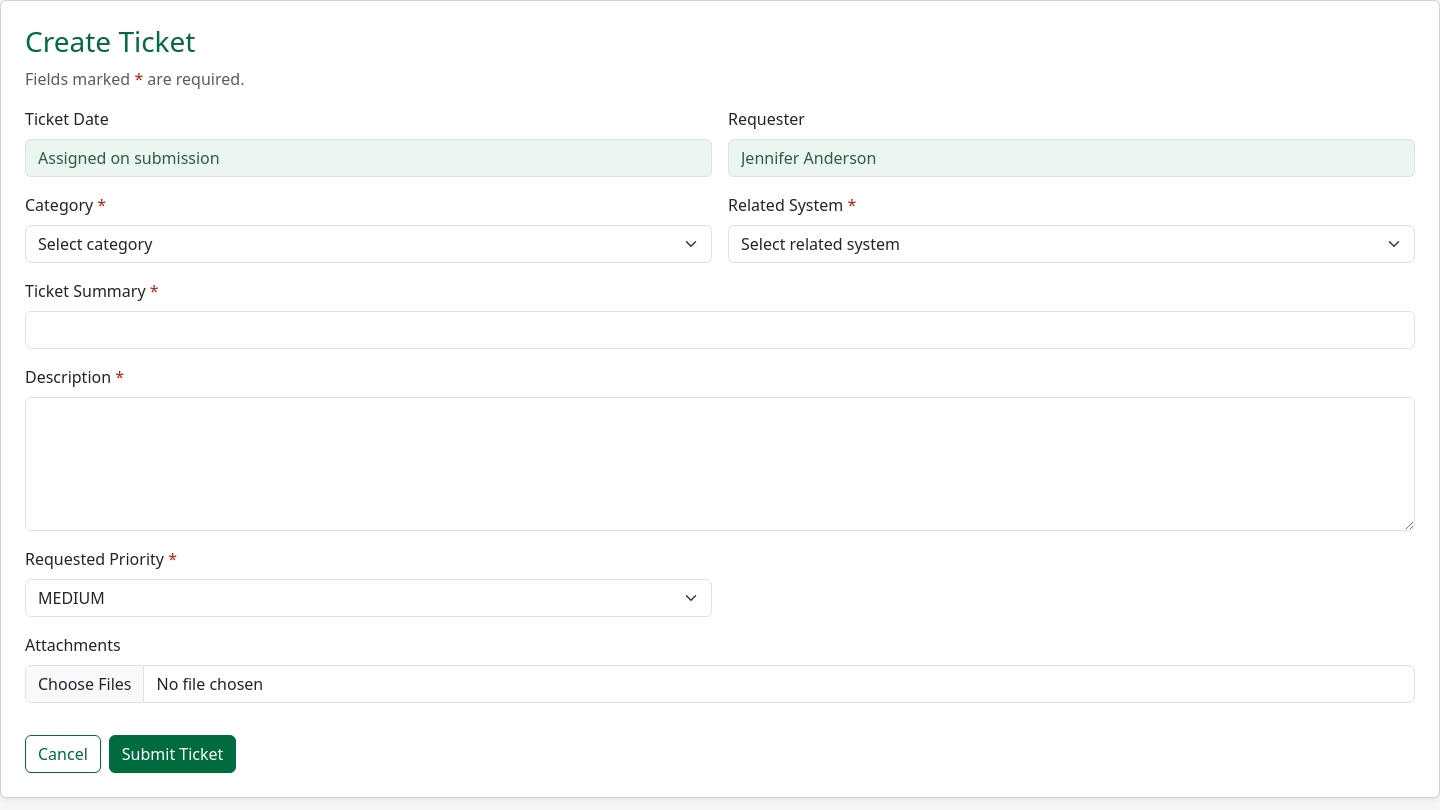
Test: Authenticated Create Ticket › preserves values after an API failure
The image size is (1440, 810).
Expected: the heading "Create Ticket" is shown, [25,22,196,60]
Expected: the button "Submit Ticket" is enabled, [109,735,236,773]
Step 1. Type "Laptop fails" into the field labelled "Ticket Summary *" → (720, 330), box [25,311,1415,349]
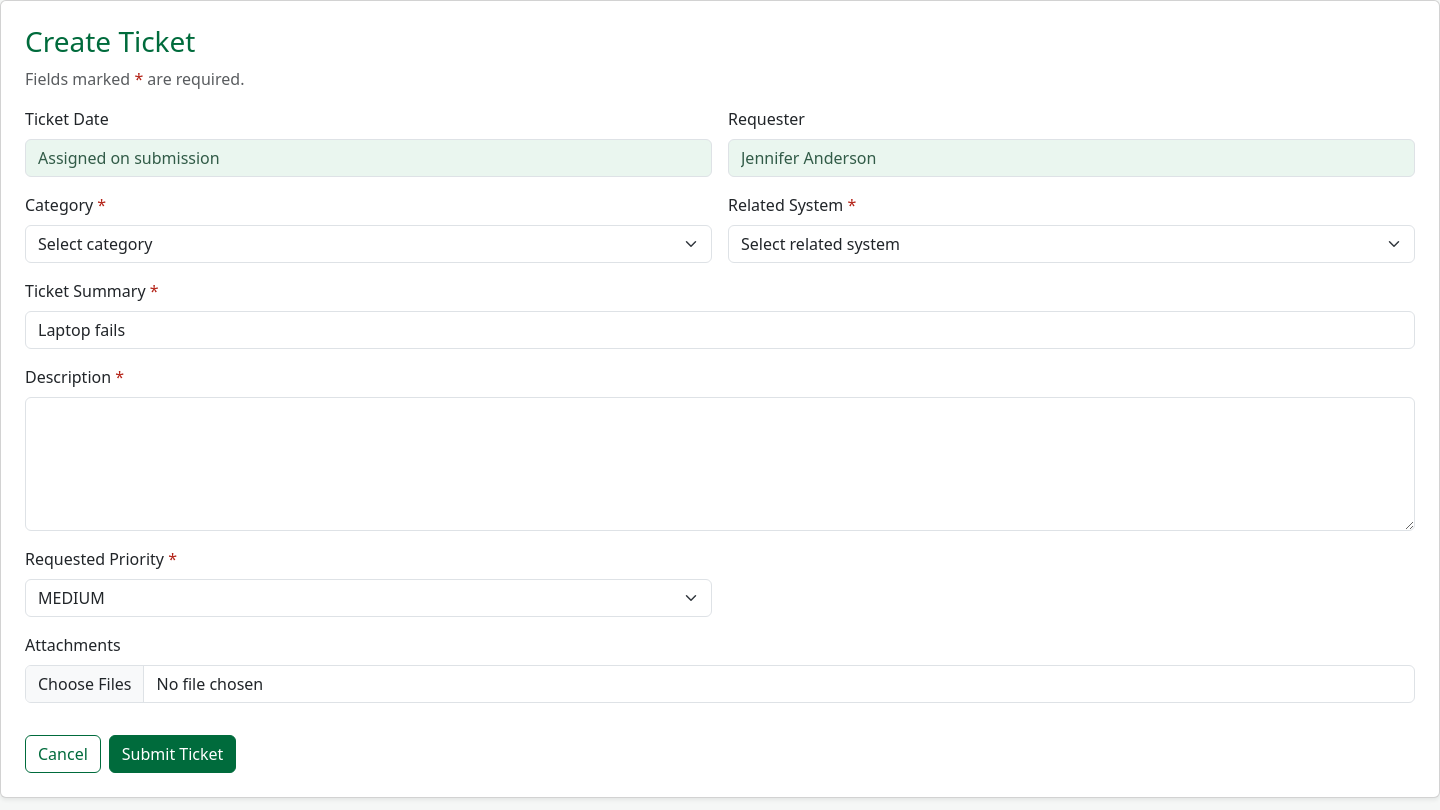
Step 2. Type "Laptop does not power on." into the text box labelled "Description *" → (720, 464), box [25,397,1415,531]
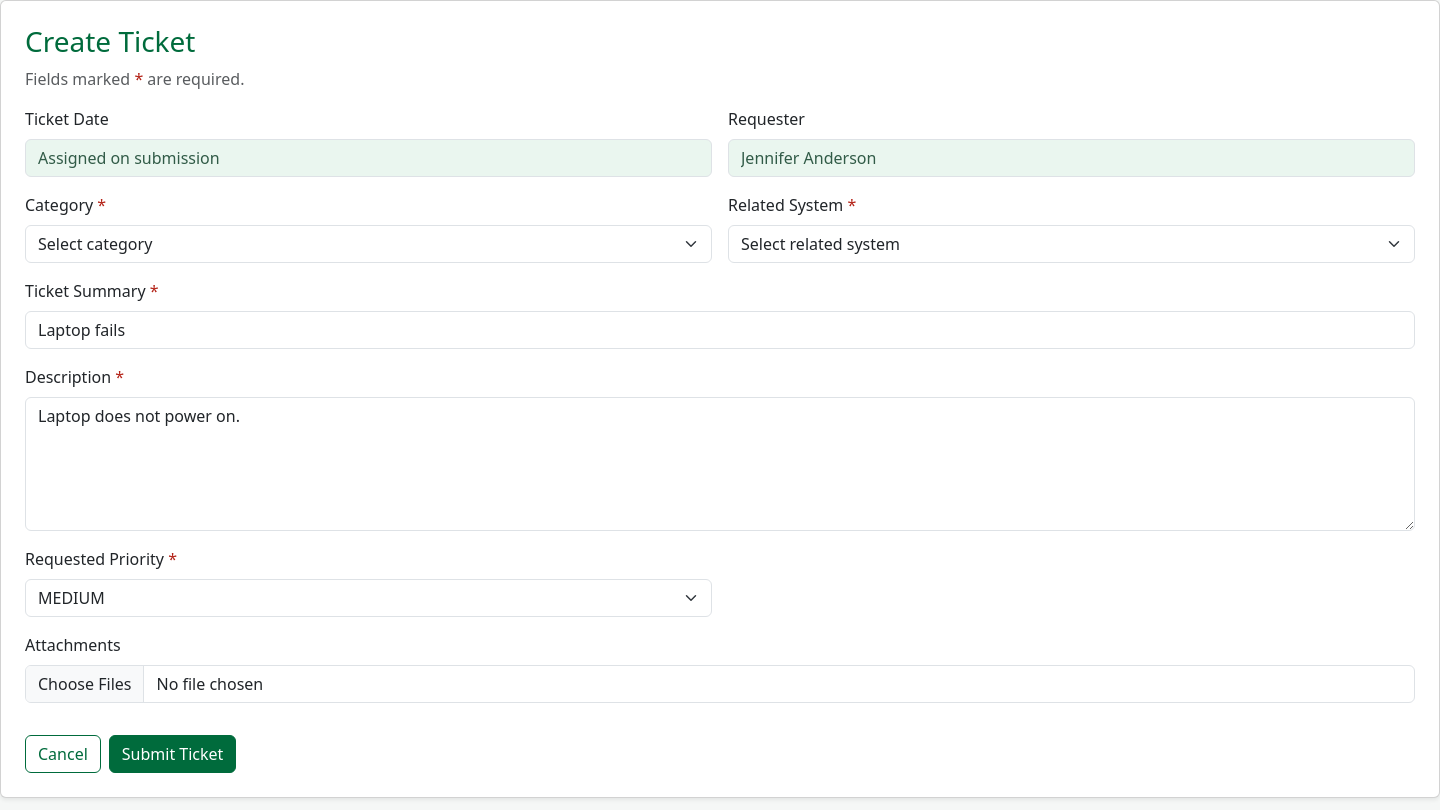
Step 3. Select "Hardware" in the dropdown labelled "Category *" → (368, 244), box [25,225,712,263]
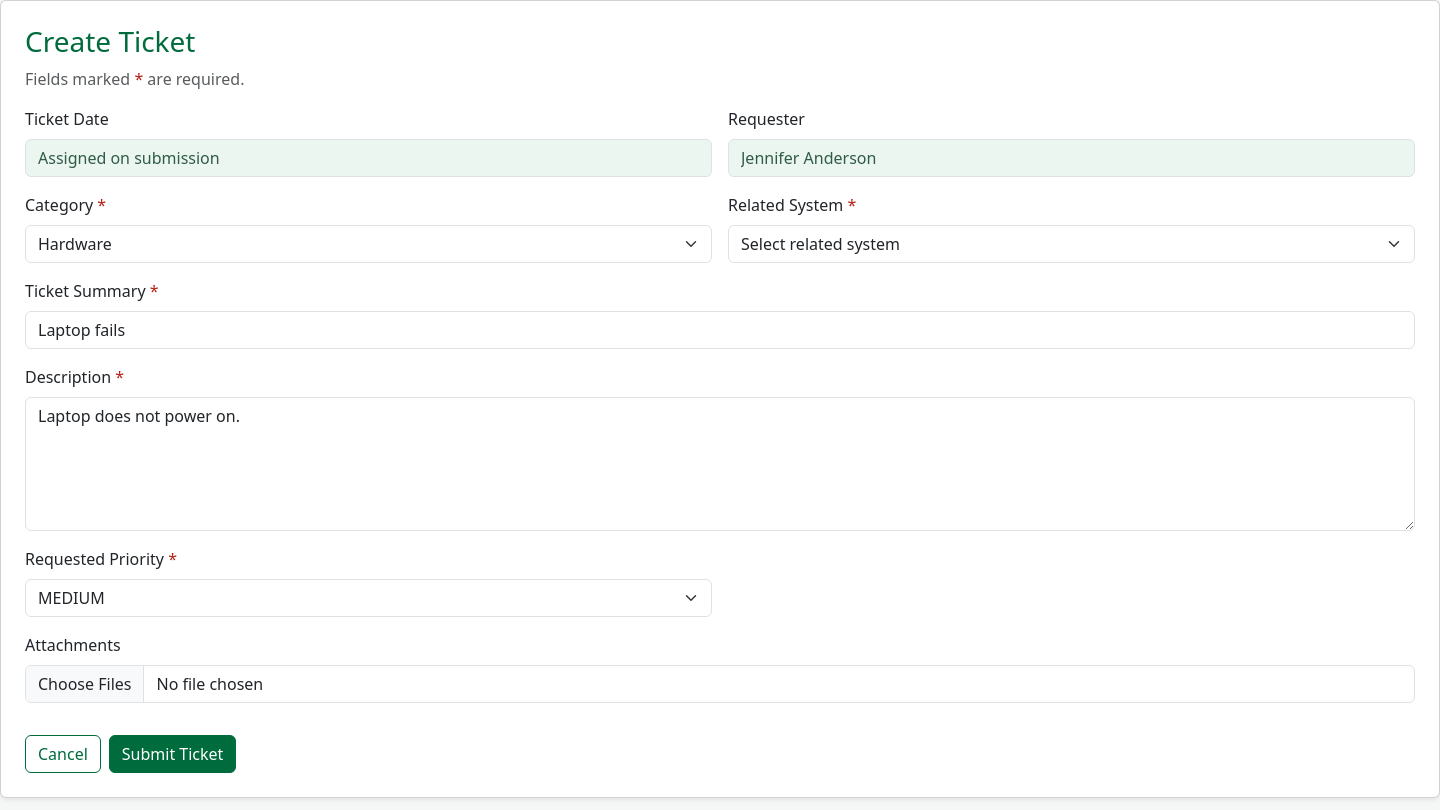
Step 4. Select "Laptop" in the dropdown labelled "Related System *" → (1072, 244), box [728,225,1415,263]
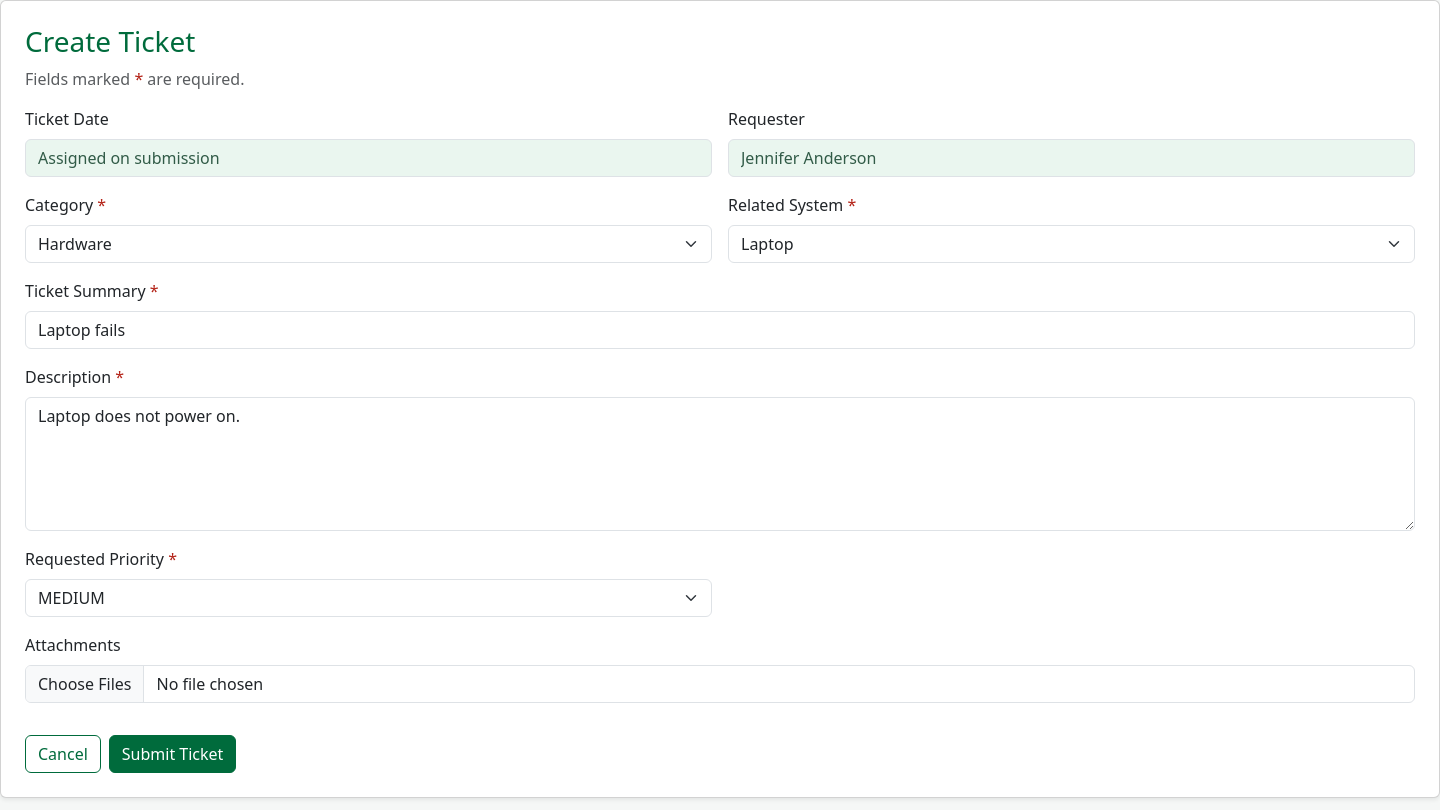
Step 5. Click the button "Submit Ticket" → (173, 754), box [109,735,236,773]
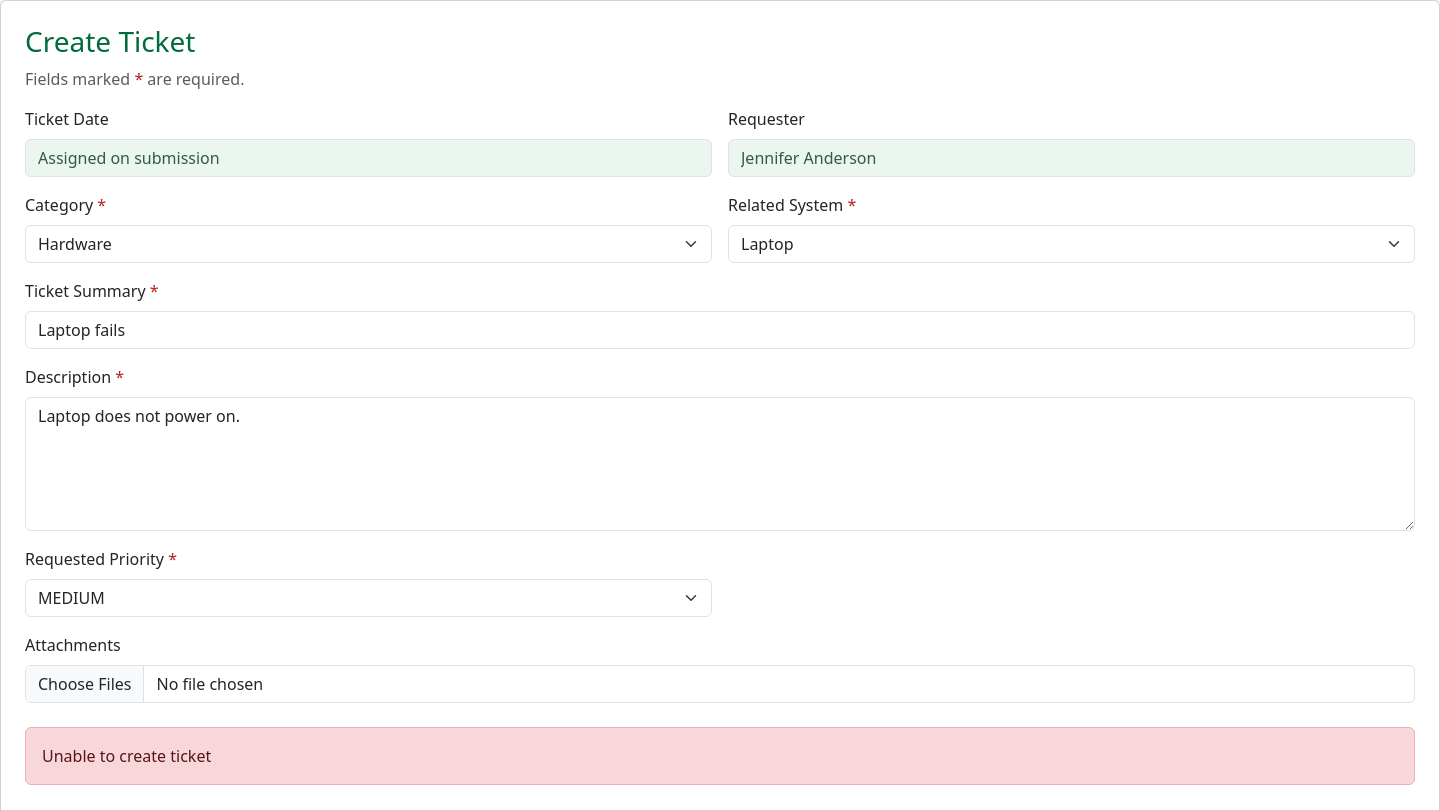
Now the message reads "Unable to create ticket", box [42,745,211,767]
